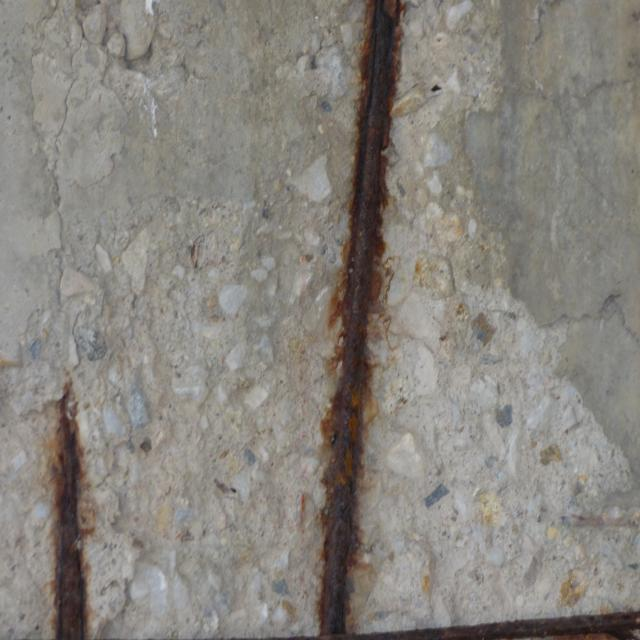corrosion: (288, 0, 425, 640), (21, 387, 109, 640), (350, 596, 640, 640)
